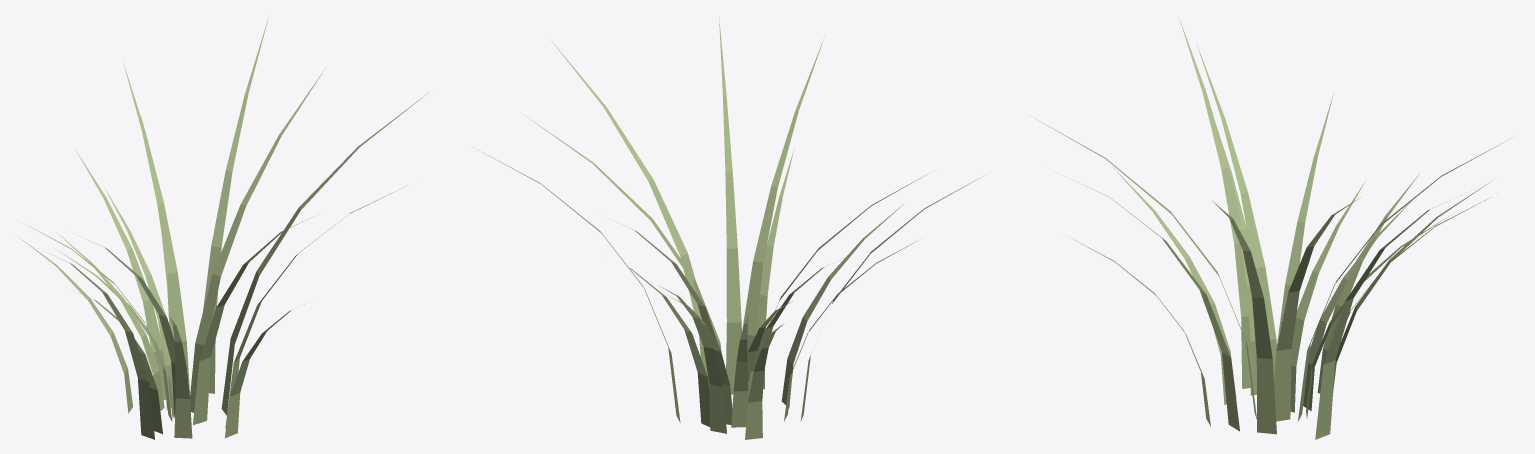
File: tall-grass-tussock.glb
3 views of the same model, side by side, from view 1: azimuth 30°, elevation 25°; view 2: azimuth 150°, elevation 25°; view 3: azimuth 270°, elevation 25° (orthographic). The views are drawn at different scales.
Visible parts, largest first — view 1: tall-grass-tussock; view 2: tall-grass-tussock; view 3: tall-grass-tussock.
Part boxes in pixels (x1,y1,x2,y2): tall-grass-tussock: [17, 18, 429, 439]; tall-grass-tussock: [475, 17, 982, 439]; tall-grass-tussock: [1027, 18, 1516, 439].
Bounding box in the file's own units: 1.21 × 0.8143 × 1.1.
